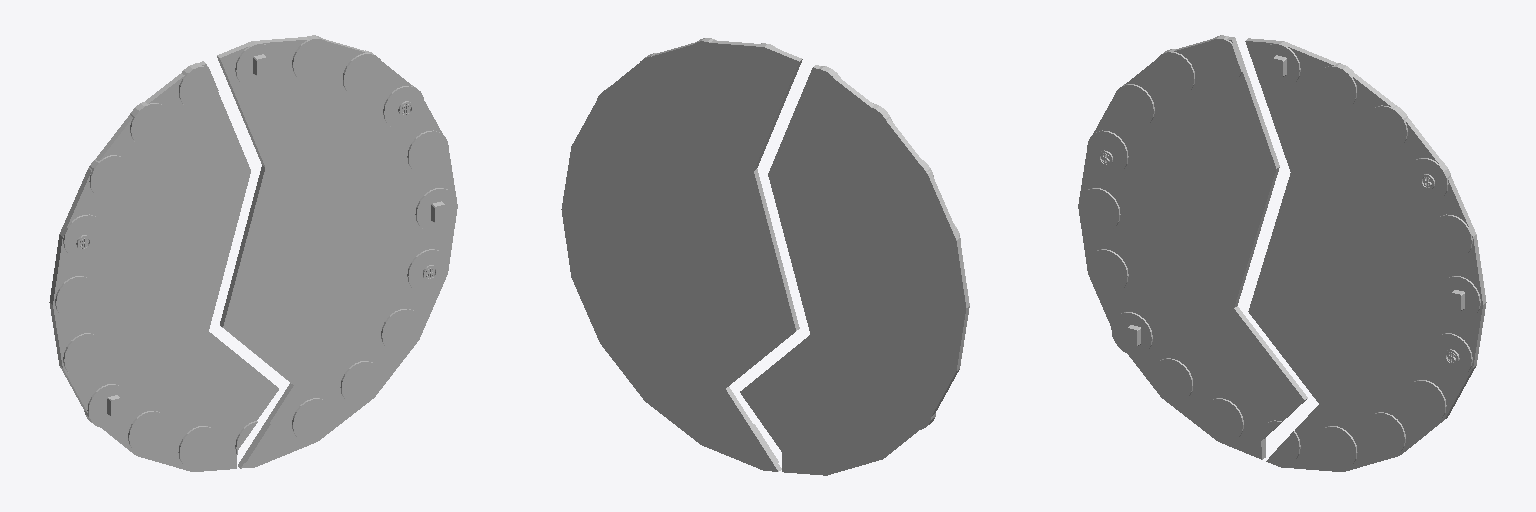
The model's file is Greed.obj.
3 views of the same model, side by side, from view 1: azimuth 30°, elevation 25°; view 2: azimuth 150°, elevation 25°; view 3: azimuth 330°, elevation 25° (orthographic).
Visible parts, largest first — view 1: obj_0; view 2: obj_0; view 3: obj_0.
Boxes of the visible parts, x1=… form: obj_0: x1=49, y1=35, x2=457, y2=471; obj_0: x1=561, y1=38, x2=969, y2=475; obj_0: x1=1078, y1=35, x2=1486, y2=471.
Size of the model in its own units: 200 by 200 by 7.